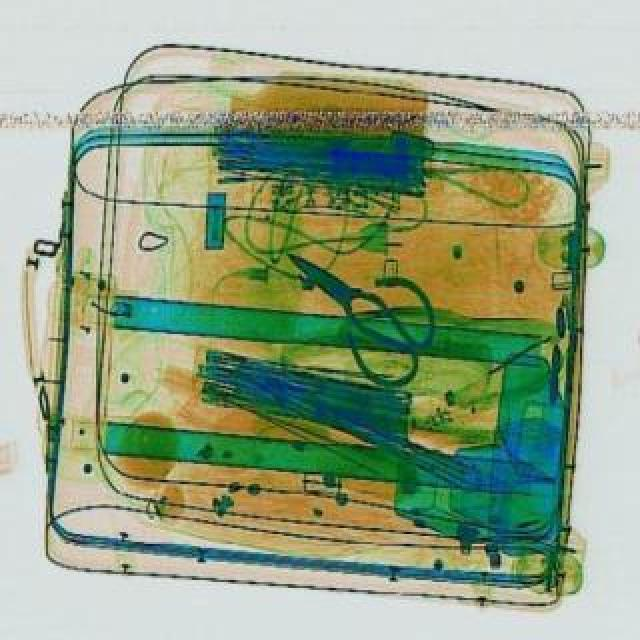pliers: (250, 208, 466, 396)
